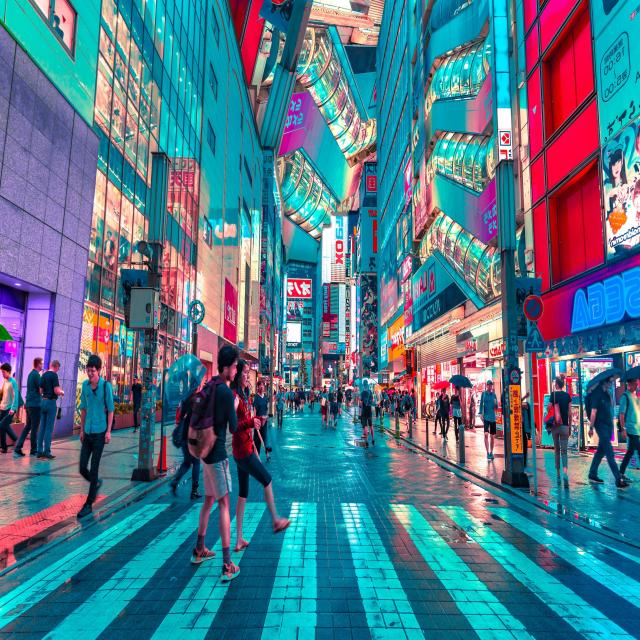adult: (228, 358, 291, 558), (189, 344, 242, 579), (74, 352, 114, 520), (588, 374, 630, 485), (34, 356, 65, 462), (15, 354, 43, 456), (548, 372, 570, 484), (618, 376, 640, 480), (253, 375, 274, 461), (0, 362, 18, 453), (479, 380, 498, 459), (359, 380, 375, 444), (450, 384, 462, 444), (439, 387, 449, 436), (402, 388, 413, 432), (466, 388, 476, 429), (276, 384, 284, 426)
